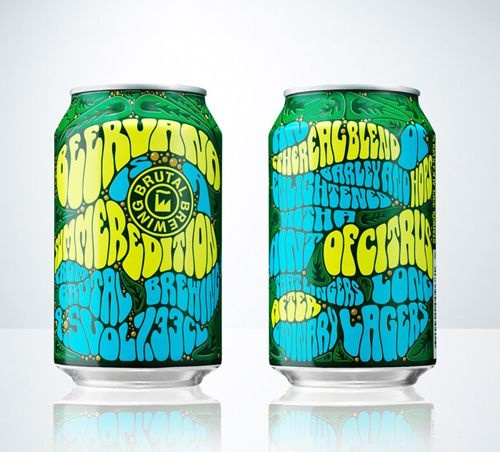Metal: (53, 83, 224, 386), (268, 83, 435, 388)
